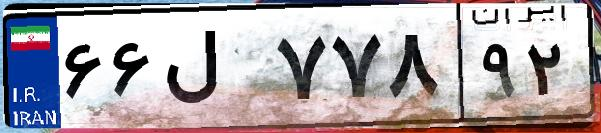2: (525, 38, 570, 115)
6: (57, 26, 110, 100), (110, 28, 158, 98)
7: (270, 28, 330, 110), (330, 28, 385, 110)
8: (385, 28, 445, 110)
9: (475, 38, 525, 113)
ل: (158, 20, 270, 120)
